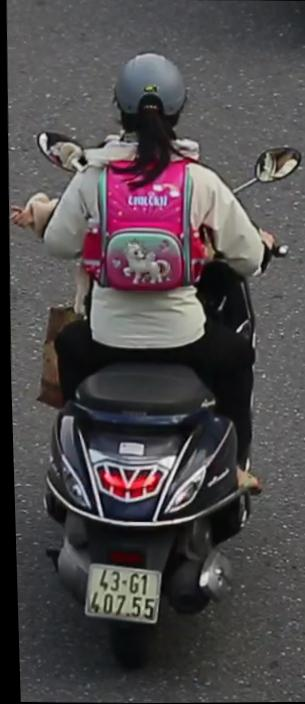LP: (77, 559, 161, 631)
helmet: (106, 45, 192, 147)
